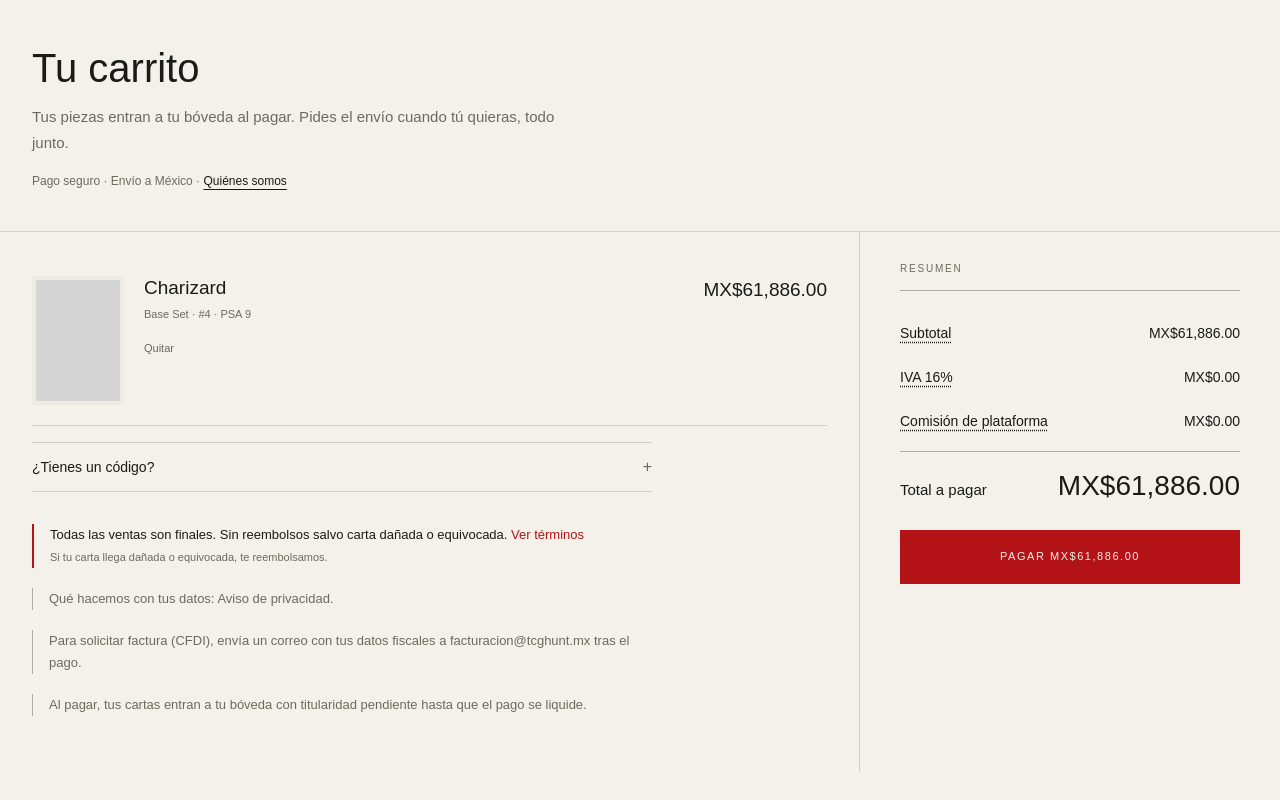
Scenario: UX-14 · `403 ACCOUNT_WITHOUT_EMAIL` en el pago › pinta el texto de la cuenta del equipo y no el aviso de verificar correo
The width and height of the screenshot is (1280, 800).
Click the button "Pagar MX$61,886.00": (1070, 556) [900,530,1240,584]
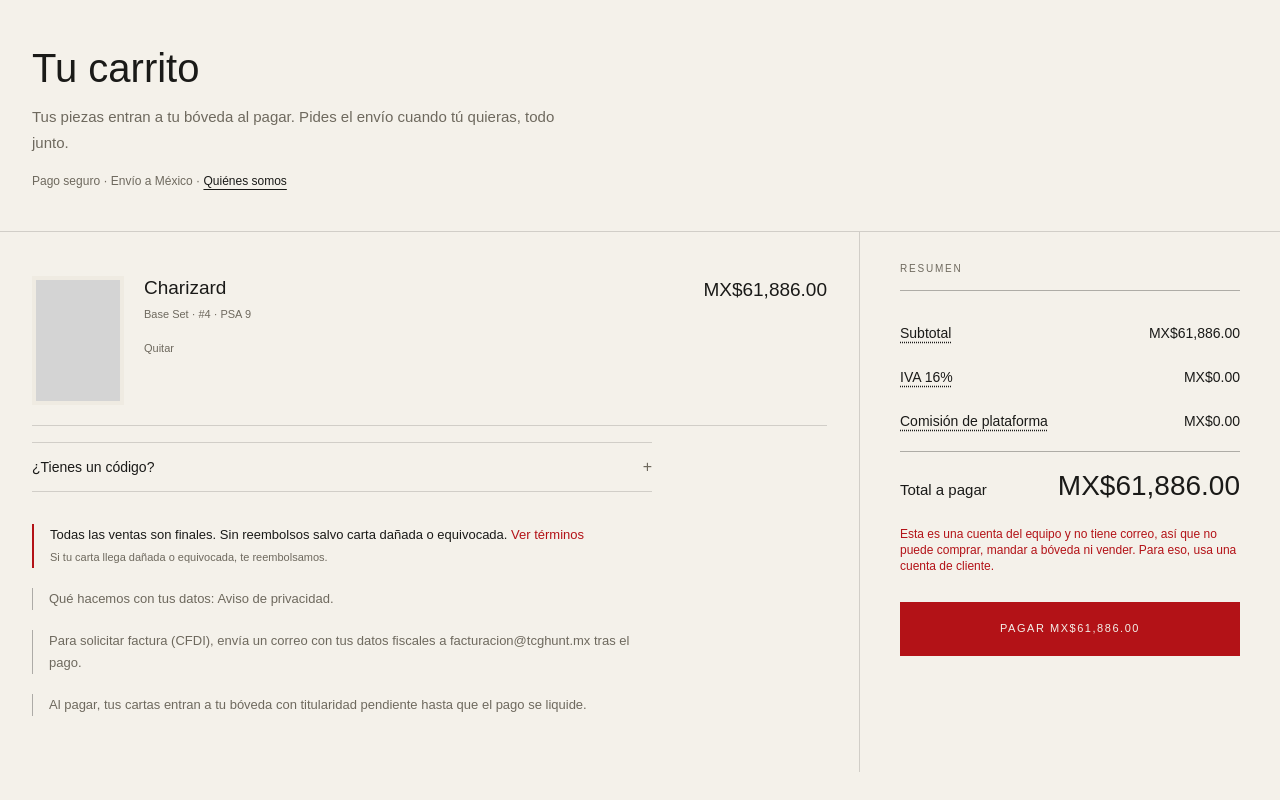
Result: the text "Esta es una cuenta del equipo y no tiene correo, así que no puede comprar, mandar a bóveda ni vender. Para eso, usa una " is shown at [900,526,1236,572]
